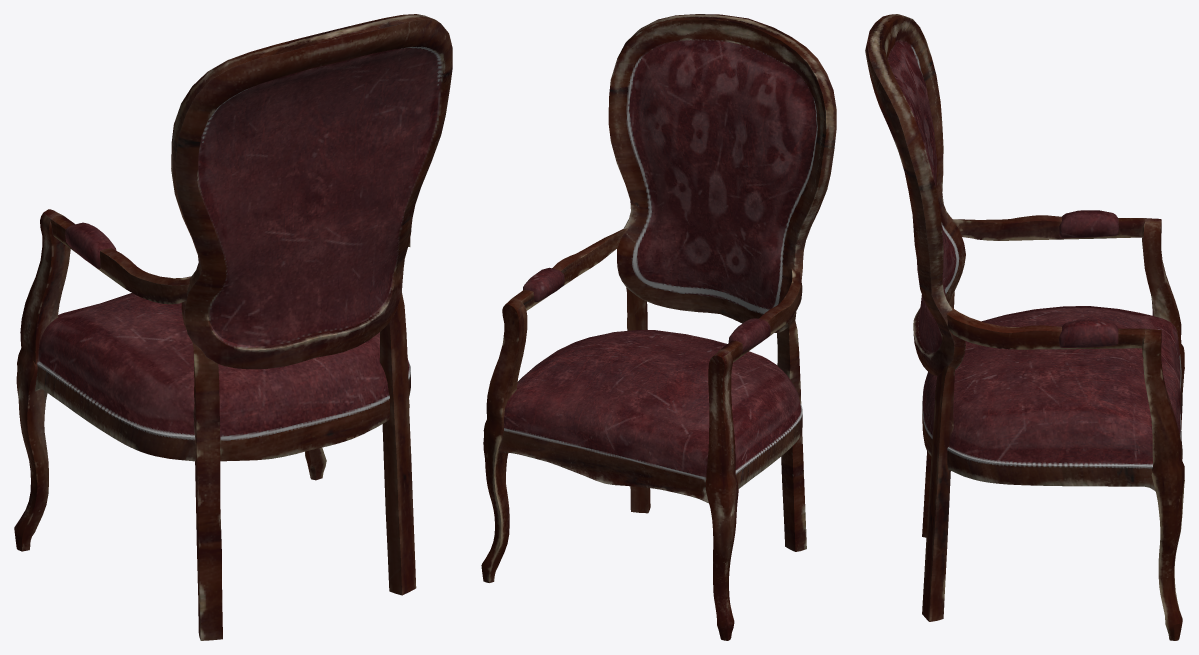
The model's file is Prop_Chair.fbx.
The picture shows the model from 3 angles, left to right: view 1: azimuth 30°, elevation 25°; view 2: azimuth 150°, elevation 25°; view 3: azimuth 270°, elevation 25°; orthographic projection. The views are drawn at different scales.
Visible parts, largest first — view 1: Prop_Chair; view 2: Prop_Chair; view 3: Prop_Chair.
Boxes of the visible parts, box(x1,y1,x2,y2) form: Prop_Chair: box(14, 14, 452, 640); Prop_Chair: box(481, 14, 836, 640); Prop_Chair: box(865, 14, 1184, 640).
Bounding box in the file's own units: 29.95 × 55.95 × 30.33.
